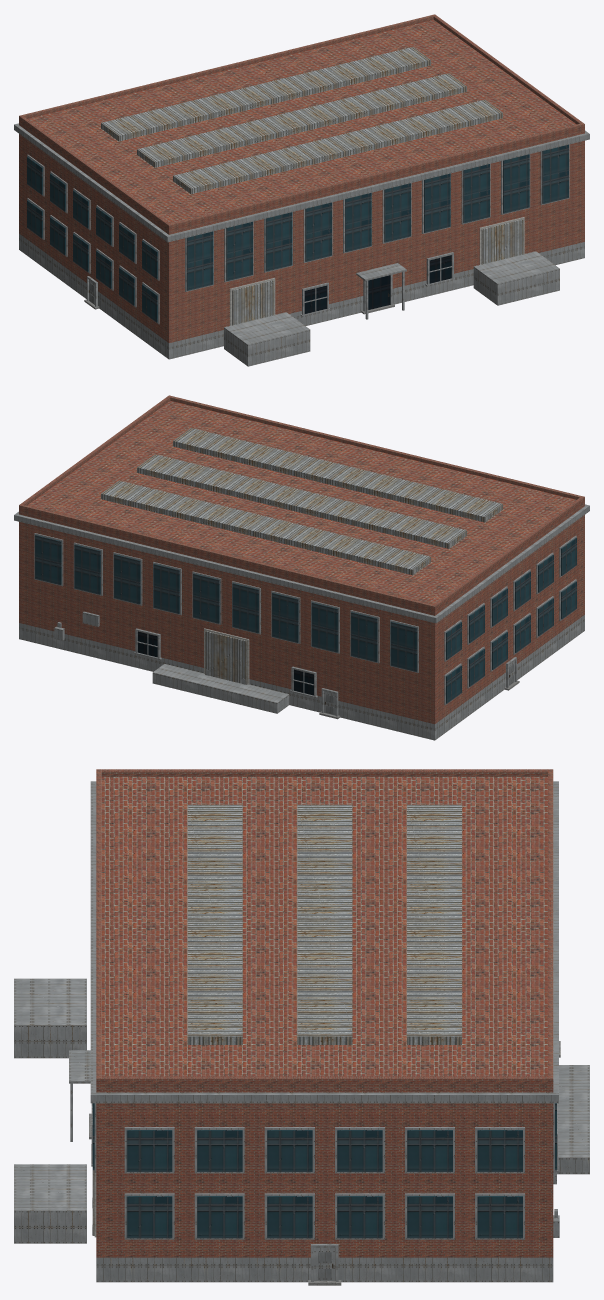
Rendered from ironworks-machine-shop_lod0.gltf.
The picture shows the model from 3 angles, top to bottom: view 1: azimuth 30°, elevation 25°; view 2: azimuth 150°, elevation 25°; view 3: azimuth 270°, elevation 25°; orthographic projection. The views are drawn at different scales.
Parts seen in each view (by area): view 1: ironworks-machine-shop_upper, ironworks-machine-shop_fen_07-glass-curtain-blue_1, ironworks-machine-shop__sawtooth_a, ironworks-machine-shop__sawtooth_c, ironworks-machine-shop__sawtooth_b, ironworks-machine-shop_base, ironworks-machine-shop_fen_14-steel-panel_0, ironworks-machine-shop__cornice, ironworks-machine-shop__material_stack_b, ironworks-machine-shop__material_stack_a, ironworks-machine-shop_fen_21-corrugated-steel_3, ironworks-machine-shop__parapet_front (+5 smaller); view 2: ironworks-machine-shop_upper, ironworks-machine-shop_fen_07-glass-curtain-blue_1, ironworks-machine-shop__sawtooth_c, ironworks-machine-shop__sawtooth_b, ironworks-machine-shop__sawtooth_a, ironworks-machine-shop_base, ironworks-machine-shop_fen_14-steel-panel_0, ironworks-machine-shop__cornice, ironworks-machine-shop__loading_dock, ironworks-machine-shop__parapet_back, ironworks-machine-shop__parapet_front, ironworks-machine-shop_fen_21-corrugated-steel_3 (+3 smaller); view 3: ironworks-machine-shop_upper, ironworks-machine-shop_fen_07-glass-curtain-blue_1, ironworks-machine-shop__sawtooth_a, ironworks-machine-shop__sawtooth_b, ironworks-machine-shop__sawtooth_c, ironworks-machine-shop_base, ironworks-machine-shop__cornice, ironworks-machine-shop_fen_14-steel-panel_0, ironworks-machine-shop__material_stack_b, ironworks-machine-shop__material_stack_a, ironworks-machine-shop__parapet_left, ironworks-machine-shop__parapet_right (+3 smaller).
Boxes of the visible parts, x1,y1,x2,y2 form: ironworks-machine-shop_upper: (19,19,584,342); ironworks-machine-shop_fen_07-glass-curtain-blue_1: (27,144,568,322); ironworks-machine-shop__sawtooth_a: (173,99,502,194); ironworks-machine-shop__sawtooth_c: (101,47,430,141); ironworks-machine-shop__sawtooth_b: (137,73,466,167); ironworks-machine-shop_base: (19,233,584,359); ironworks-machine-shop_fen_14-steel-panel_0: (27,144,569,324); ironworks-machine-shop__cornice: (14,123,589,242); ironworks-machine-shop__material_stack_b: (473,251,559,305); ironworks-machine-shop__material_stack_a: (224,312,310,366); ironworks-machine-shop_fen_21-corrugated-steel_3: (232,219,523,325); ironworks-machine-shop__parapet_front: (167,123,584,228); ironworks-machine-shop_upper: (19,400,584,724); ironworks-machine-shop_fen_07-glass-curtain-blue_1: (35,535,576,703); ironworks-machine-shop__sawtooth_c: (101,480,430,575); ironworks-machine-shop__sawtooth_b: (137,454,466,548); ironworks-machine-shop__sawtooth_a: (173,428,502,522); ironworks-machine-shop_base: (19,615,584,740); ironworks-machine-shop_fen_14-steel-panel_0: (34,533,576,716); ironworks-machine-shop__cornice: (14,504,589,623); ironworks-machine-shop__loading_dock: (152,664,289,713); ironworks-machine-shop__parapet_back: (19,504,436,609); ironworks-machine-shop__parapet_front: (167,395,584,500); ironworks-machine-shop_fen_21-corrugated-steel_3: (205,631,247,684); ironworks-machine-shop_upper: (96,776,553,1257); ironworks-machine-shop_fen_07-glass-curtain-blue_1: (92,1103,556,1238); ironworks-machine-shop__sawtooth_a: (187,804,242,1044); ironworks-machine-shop__sawtooth_b: (297,804,352,1044); ironworks-machine-shop__sawtooth_c: (407,804,461,1044); ironworks-machine-shop_base: (96,1257,553,1282); ironworks-machine-shop__cornice: (90,781,558,1103); ironworks-machine-shop_fen_14-steel-panel_0: (69,1050,559,1281); ironworks-machine-shop__material_stack_b: (14,1164,86,1243); ironworks-machine-shop__material_stack_a: (14,978,86,1058); ironworks-machine-shop__parapet_left: (101,769,547,776); ironworks-machine-shop__parapet_right: (101,1076,547,1083).
Size of the model in its own units: 40.8 by 12.5 by 31.5.
